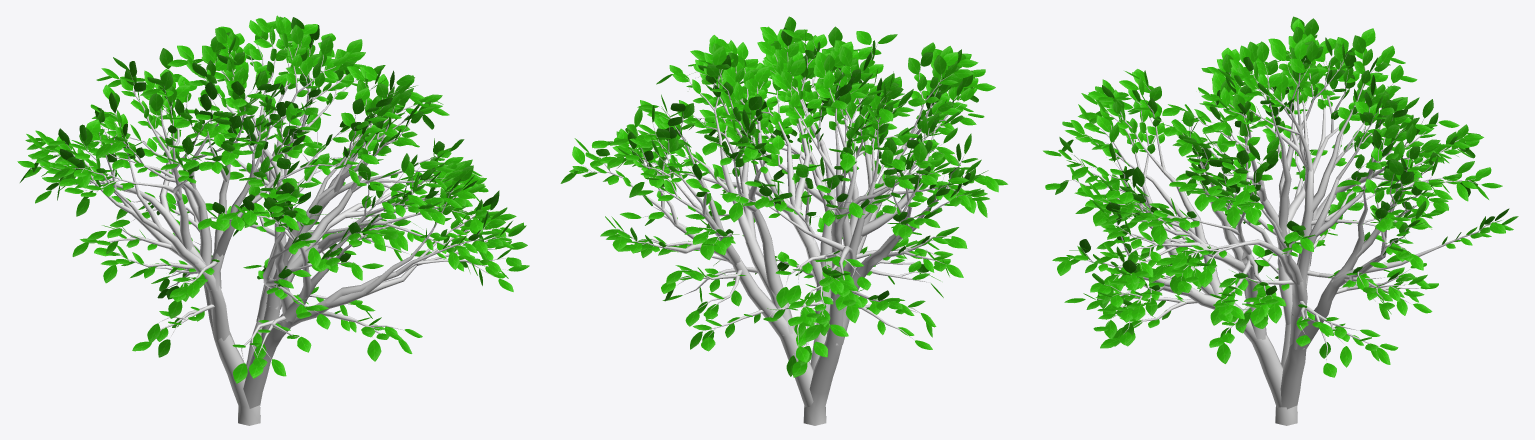
Rendered from ゲーム用の木.fbx.
3 views of the same model, side by side, from view 1: azimuth 30°, elevation 25°; view 2: azimuth 150°, elevation 25°; view 3: azimuth 270°, elevation 25° (orthographic).
Visible parts, largest first — view 1: leaves.003, tree.001; view 2: leaves.003, tree.001; view 3: leaves.003, tree.001.
Boxes of the visible parts, <box> form: leaves.003: <box>17,15,529,383</box>; tree.001: <box>37,32,508,425</box>; leaves.003: <box>560,16,1007,377</box>; tree.001: <box>578,38,985,425</box>; leaves.003: <box>1043,16,1518,377</box>; tree.001: <box>1059,52,1493,425</box>.
Bounding box in the file's own units: 10.59 × 9.14 × 11.03.
2 materials, 1 textured.
